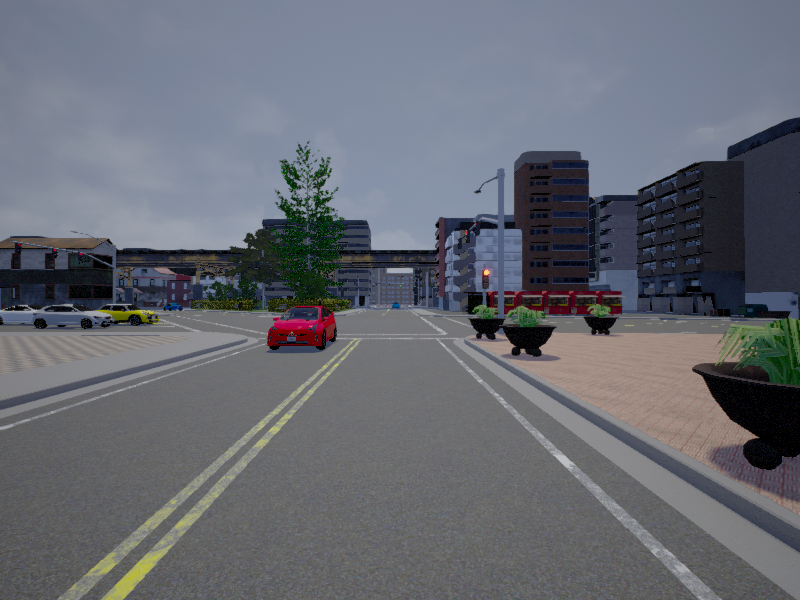Benign: (269, 302, 341, 351), (32, 308, 113, 330), (101, 304, 157, 326), (1, 306, 46, 327), (164, 303, 186, 312)
